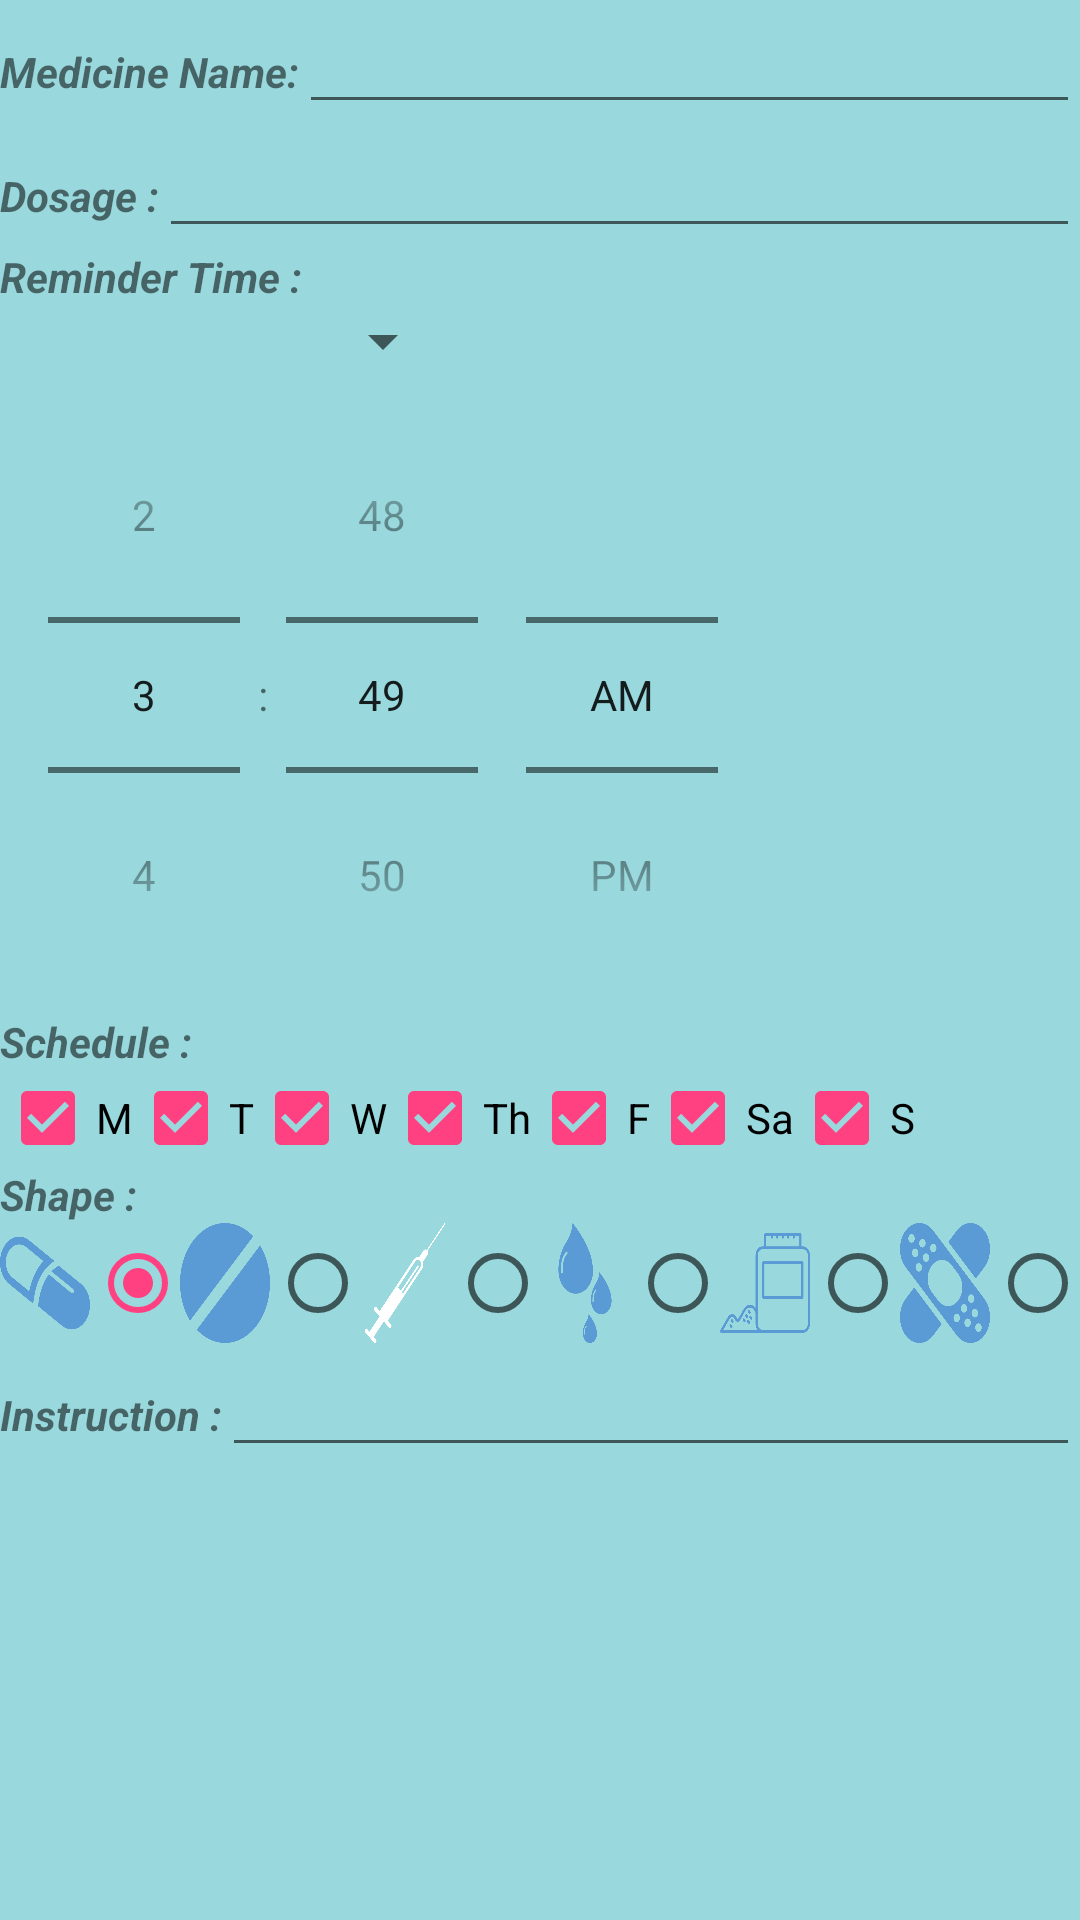

Point at icon controls on the screen. Image size 1080 × 1920, points as (x,y).
capsule: (45,1283)
needle: (405,1283)
plaster: (945,1283)
powder: (765,1283)
tablet: (225,1283)
